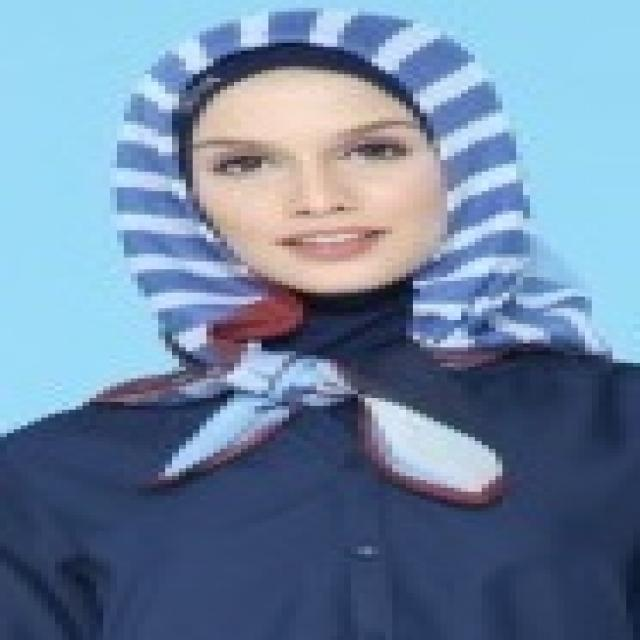head: (142, 14, 513, 306)
